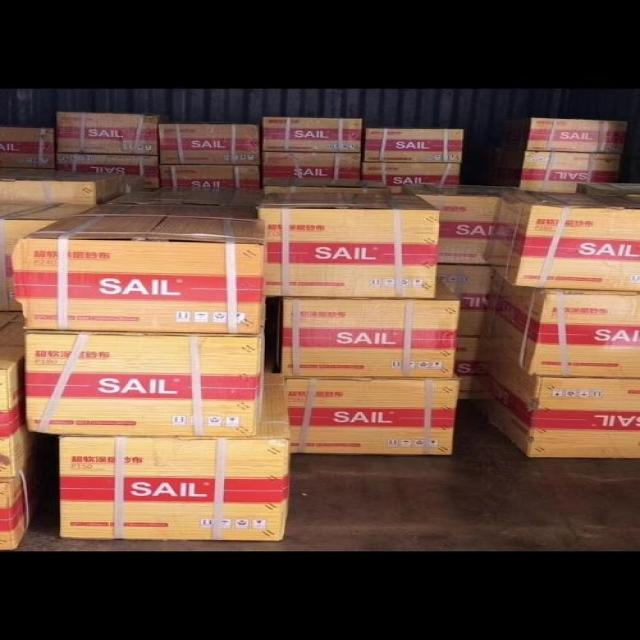box: (59, 373, 291, 541), (9, 203, 266, 335), (24, 330, 265, 436), (470, 336, 640, 459), (257, 191, 440, 298), (280, 275, 462, 378), (479, 271, 640, 379), (484, 191, 640, 292), (287, 372, 461, 455), (0, 201, 100, 311), (399, 184, 517, 264), (495, 150, 621, 193), (56, 111, 170, 156), (0, 444, 44, 550), (499, 117, 628, 153), (0, 167, 125, 204), (157, 122, 261, 165), (439, 264, 494, 335), (261, 116, 362, 153), (364, 128, 465, 163), (56, 154, 159, 188), (106, 186, 265, 207), (0, 311, 26, 423), (0, 413, 44, 478), (262, 151, 362, 179), (362, 163, 462, 191), (0, 125, 56, 169), (159, 165, 261, 185), (456, 335, 479, 399), (265, 186, 390, 194), (576, 183, 640, 195), (264, 179, 360, 186), (264, 323, 276, 372), (124, 176, 143, 193), (613, 192, 640, 202)
